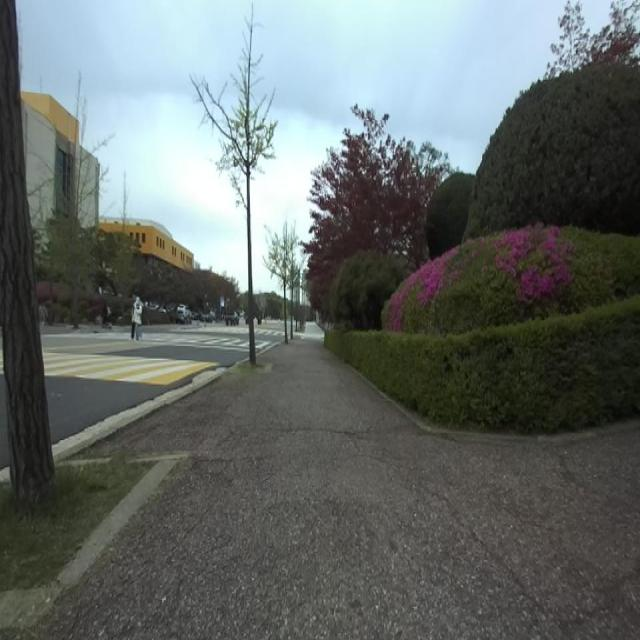sidewalk: (25, 332, 640, 639)
